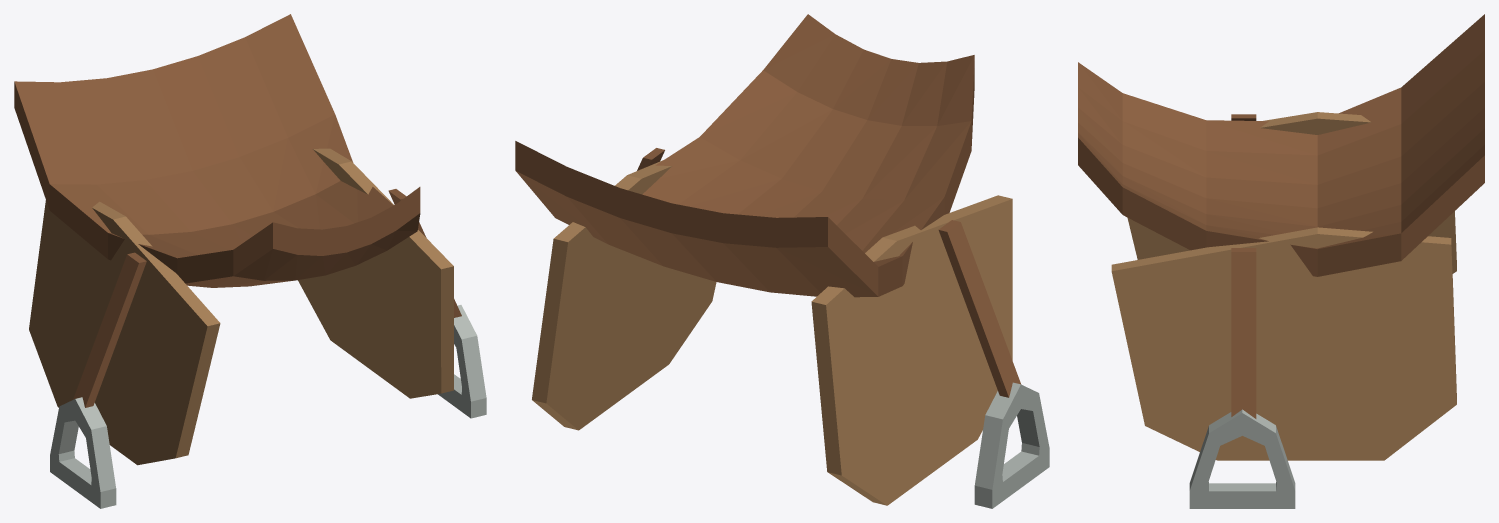
3 views of the same model, side by side, from view 1: azimuth 30°, elevation 25°; view 2: azimuth 150°, elevation 25°; view 3: azimuth 270°, elevation 25° (orthographic). The views are drawn at different scales.
Visible parts, largest first — view 1: WholeScoopedPommelSeatAndCantle, WholeHangingLeatherSkirtLeft, WholeHangingLeatherSkirtRight, WholeOpenStirrupWithFlatTreadLeft, WholeFixedStirrupLeatherLeft, WholeOpenStirrupWithFlatTreadRight; view 2: WholeScoopedPommelSeatAndCantle, WholeHangingLeatherSkirtLeft, WholeHangingLeatherSkirtRight, WholeOpenStirrupWithFlatTreadLeft, WholeFixedStirrupLeatherLeft; view 3: WholeHangingLeatherSkirtRight, WholeScoopedPommelSeatAndCantle, WholeOpenStirrupWithFlatTreadRight, WholeFixedStirrupLeatherRight, WholeHangingLeatherSkirtLeft.
Part boxes in pixels (<box>): WholeScoopedPommelSeatAndCantle: <box>14,14,420,287</box>; WholeHangingLeatherSkirtLeft: <box>29,200,220,465</box>; WholeHangingLeatherSkirtRight: <box>298,148,453,398</box>; WholeOpenStirrupWithFlatTreadLeft: <box>50,397,116,508</box>; WholeFixedStirrupLeatherLeft: <box>73,252,146,407</box>; WholeOpenStirrupWithFlatTreadRight: <box>438,305,486,418</box>; WholeScoopedPommelSeatAndCantle: <box>515,14,974,297</box>; WholeHangingLeatherSkirtLeft: <box>811,195,1012,505</box>; WholeHangingLeatherSkirtRight: <box>532,160,716,430</box>; WholeOpenStirrupWithFlatTreadLeft: <box>974,382,1049,508</box>; WholeFixedStirrupLeatherLeft: <box>938,220,1020,397</box>; WholeHangingLeatherSkirtRight: <box>1111,227,1456,460</box>; WholeScoopedPommelSeatAndCantle: <box>1078,14,1484,276</box>; WholeOpenStirrupWithFlatTreadRight: <box>1189,409,1295,508</box>; WholeFixedStirrupLeatherRight: <box>1231,248,1256,418</box>; WholeHangingLeatherSkirtLeft: <box>1127,112,1456,273</box>.
Bounding box in the file's own units: 0.838 × 0.645 × 0.73.
